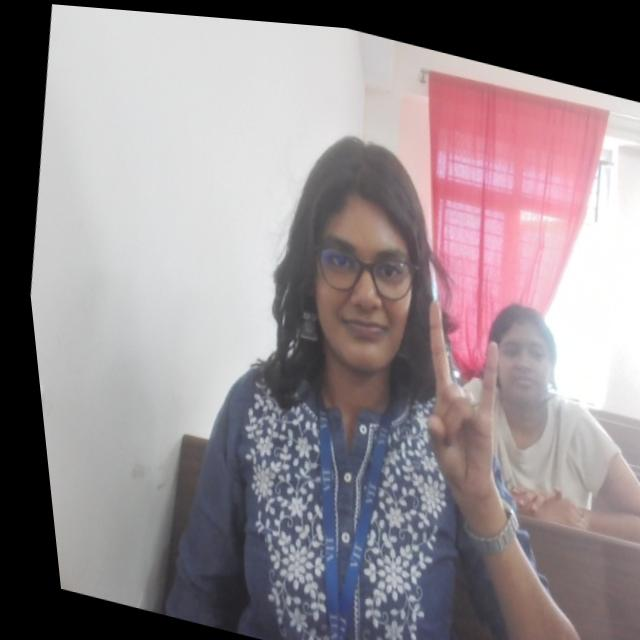iloveyou: (384, 282, 522, 500)
